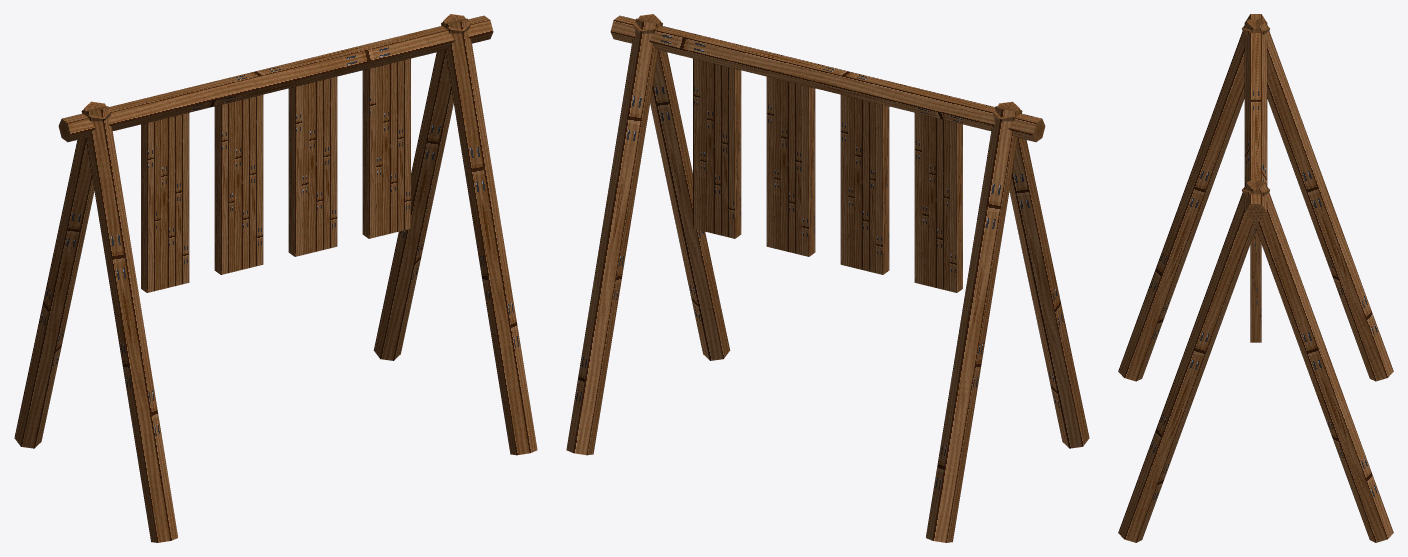
File: varal_de_secagem.glb
3 renders of one model, left to right at view 1: azimuth 30°, elevation 25°; view 2: azimuth 150°, elevation 25°; view 3: azimuth 270°, elevation 25°, orthographic. The views are drawn at different scales.
Parts seen in each view (by area): view 1: varal_de_secagem; view 2: varal_de_secagem; view 3: varal_de_secagem.
Part boxes in pixels (x1,y1,x2,y2): varal_de_secagem: [14, 14, 537, 542]; varal_de_secagem: [566, 14, 1089, 542]; varal_de_secagem: [1118, 14, 1393, 542].
Size of the model in its own units: 1.6 by 1.4 by 0.9816.
Materials: 1 (1 with a texture image).
